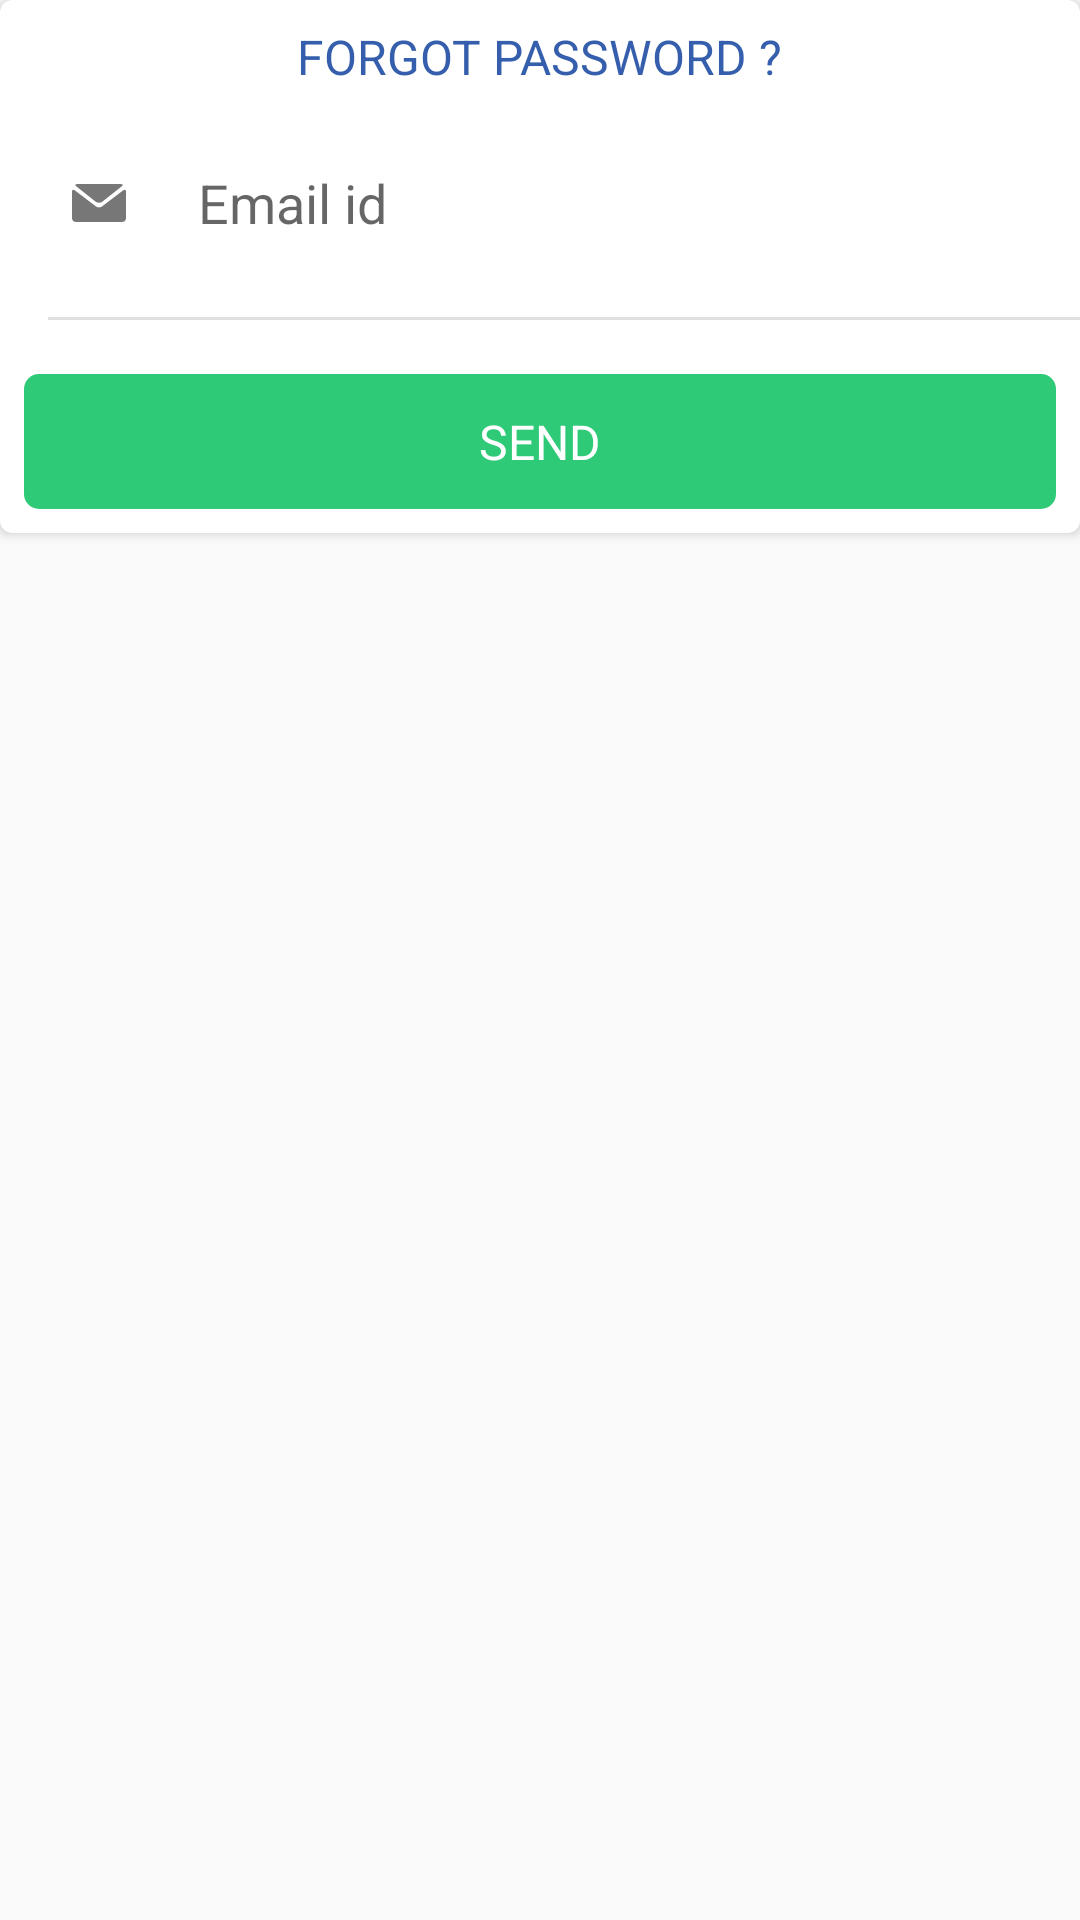

Where to tap for icons on this 1080x1920 app screen, as (x=x, y=y):
auth mail: (x=99, y=203)
